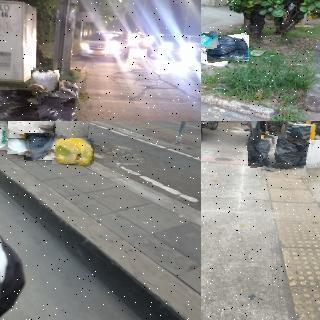Garbage: (260, 134, 307, 176), (51, 136, 95, 166), (206, 34, 250, 63), (0, 88, 38, 121), (40, 97, 78, 121), (24, 132, 55, 161), (7, 105, 62, 121), (247, 138, 275, 167), (30, 69, 60, 92), (286, 122, 320, 141), (8, 138, 29, 155), (201, 31, 218, 48), (0, 121, 9, 151)
